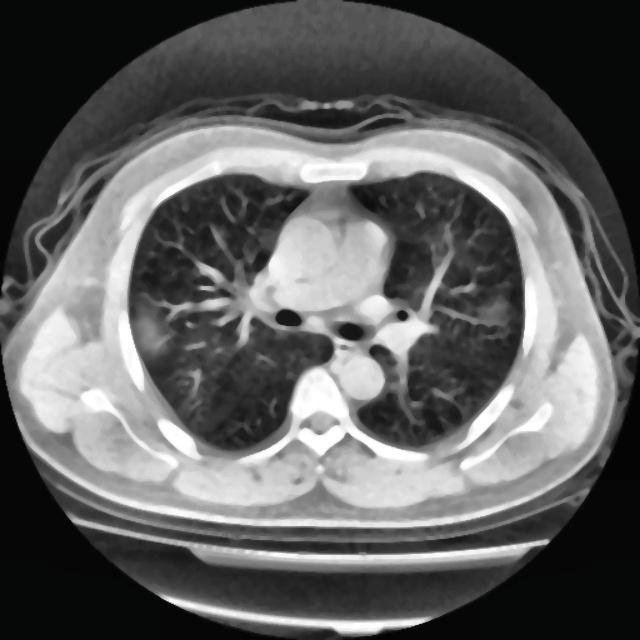covid: (1, 88, 637, 634)
